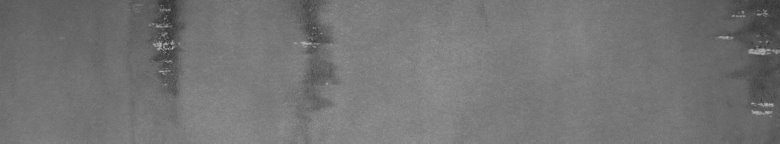hc: (128, 4, 187, 100)
